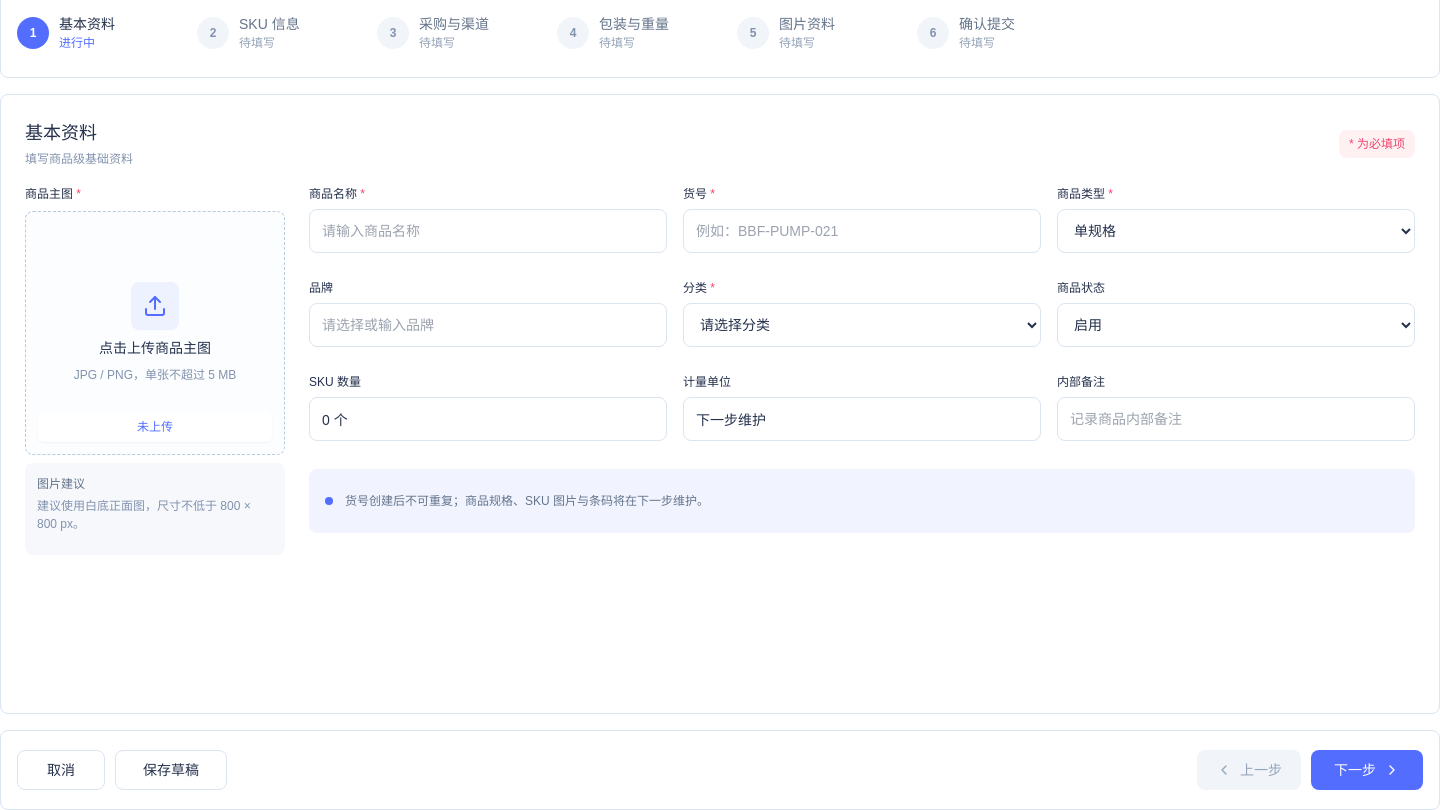
Scenario: Task 10 product editor › validates the required basic fields before saving a draft
(page scrolled)
Click the button with test id "save-product-draft" at [171, 770], box [115,750,227,790]
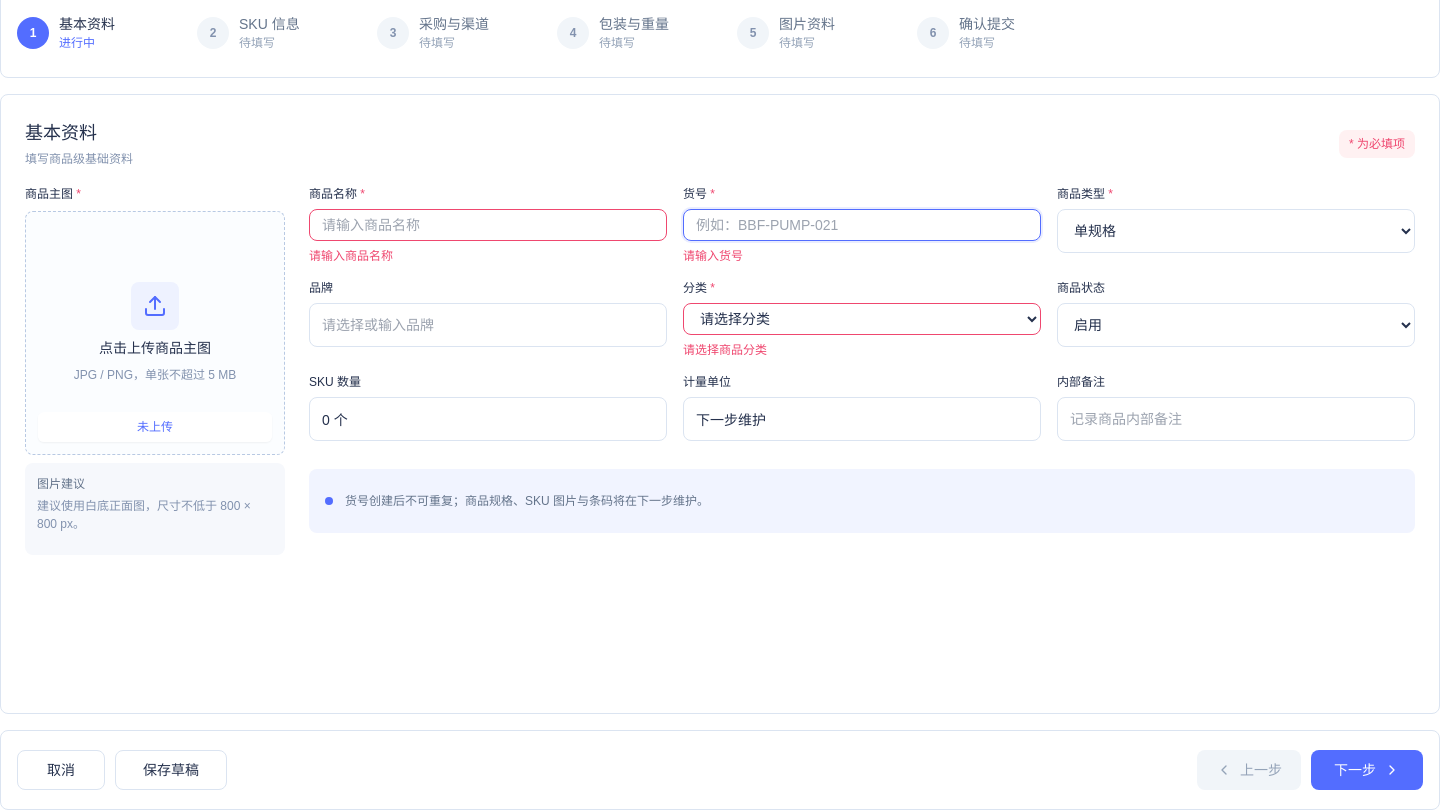
Expected: the text "请输入货号" is shown, [683,249,743,263]
Expected: the text "请输入商品名称" is shown, [309,249,393,263]
Expected: the text "请选择商品分类" is shown, [683,343,767,357]
